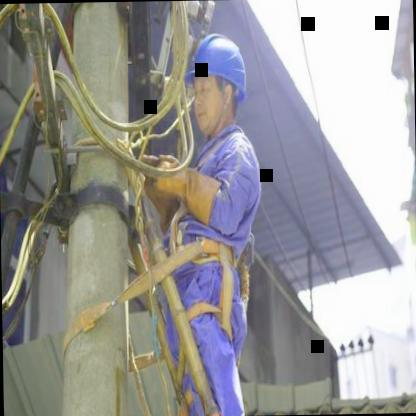helmet: (178, 22, 252, 140)
